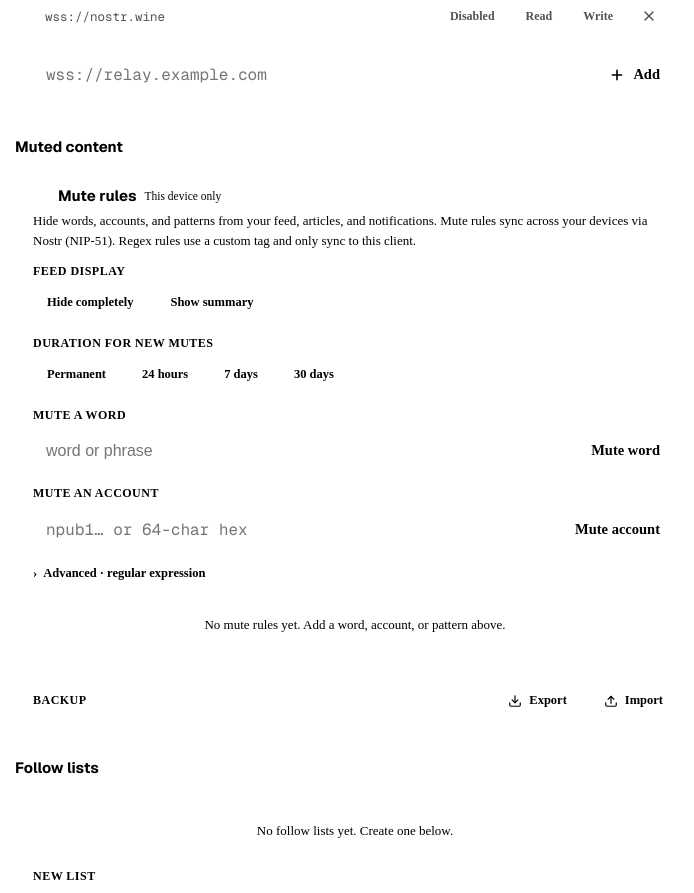
Test: Security · Muted content card › typing a keyword and clicking Mute word adds a rule (list + storage)
(page scrolled)
Check: the text "No mute rules yet. Add a word, account, or pattern above." is shown, box x1=204 y1=617 x2=506 y2=632
In the field named "Word to mute": (299, 450) x1=33 y1=431 x2=565 y2=470, type "airdrop"
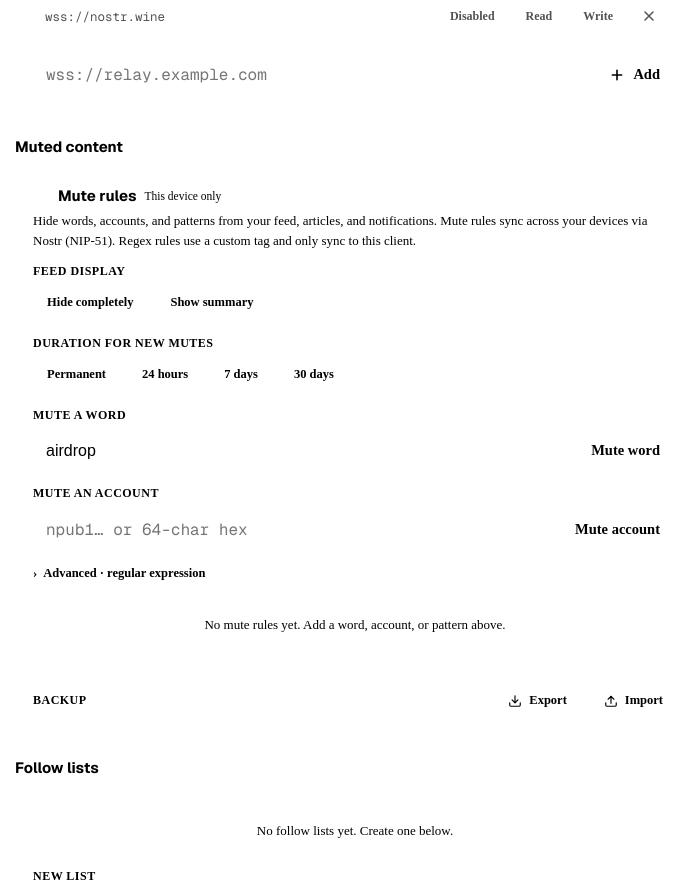
Click the button "Mute word": (626, 450) x1=574 y1=431 x2=677 y2=470
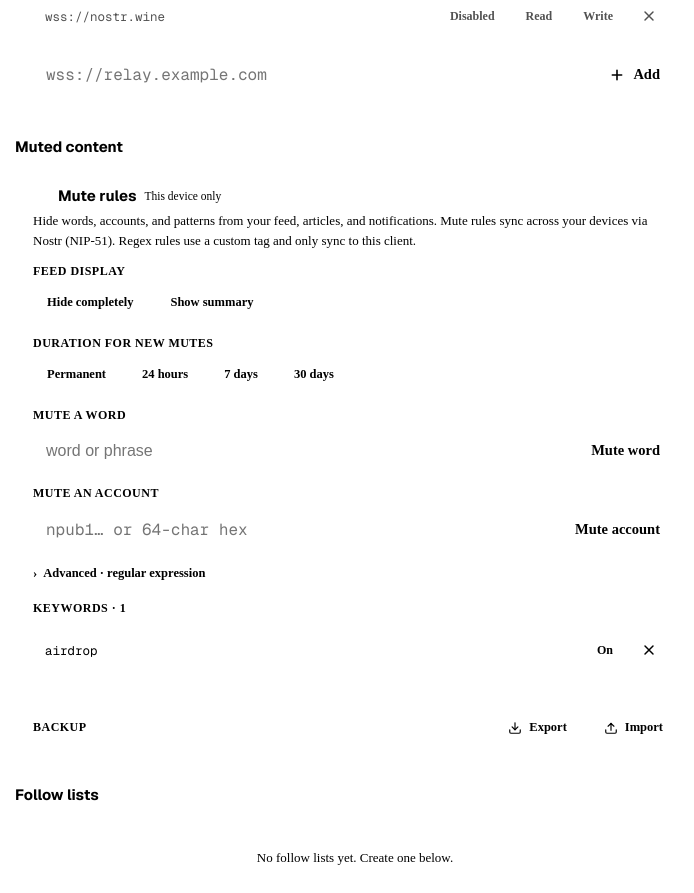
Check: the text "Keywords · 1" is shown, box x1=33 y1=601 x2=126 y2=615
Check: the text "airdrop" is shown, box x1=45 y1=642 x2=98 y2=658
Check: the text "No mute rules yet" is gone
